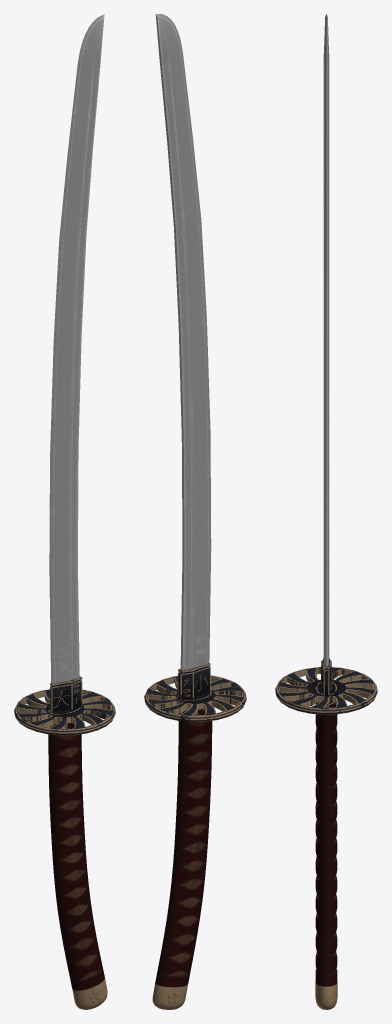
Rendered from antique_katana_01.glb.
3 renders of one model, left to right at view 1: azimuth 30°, elevation 25°; view 2: azimuth 210°, elevation 25°; view 3: azimuth 270°, elevation 25°, orthographic.
Visible parts, largest first — view 1: antique_katana_01; view 2: antique_katana_01; view 3: antique_katana_01.
Part boxes in pixels (x1,y1,x2,y2): antique_katana_01: (14, 14, 115, 1009); antique_katana_01: (144, 14, 246, 1009); antique_katana_01: (275, 14, 377, 1009).
Bounding box in the file's own units: 0.0934 × 1 × 0.0934.
1 material, 1 textured.
